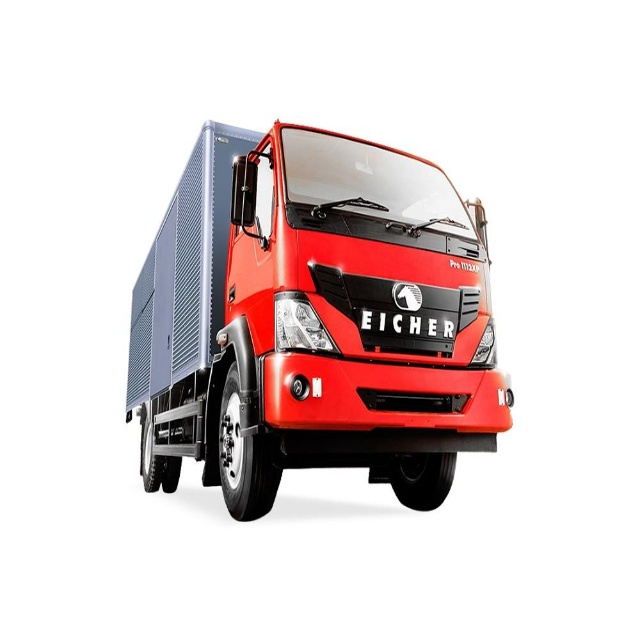Truck: (125, 120, 513, 522)
